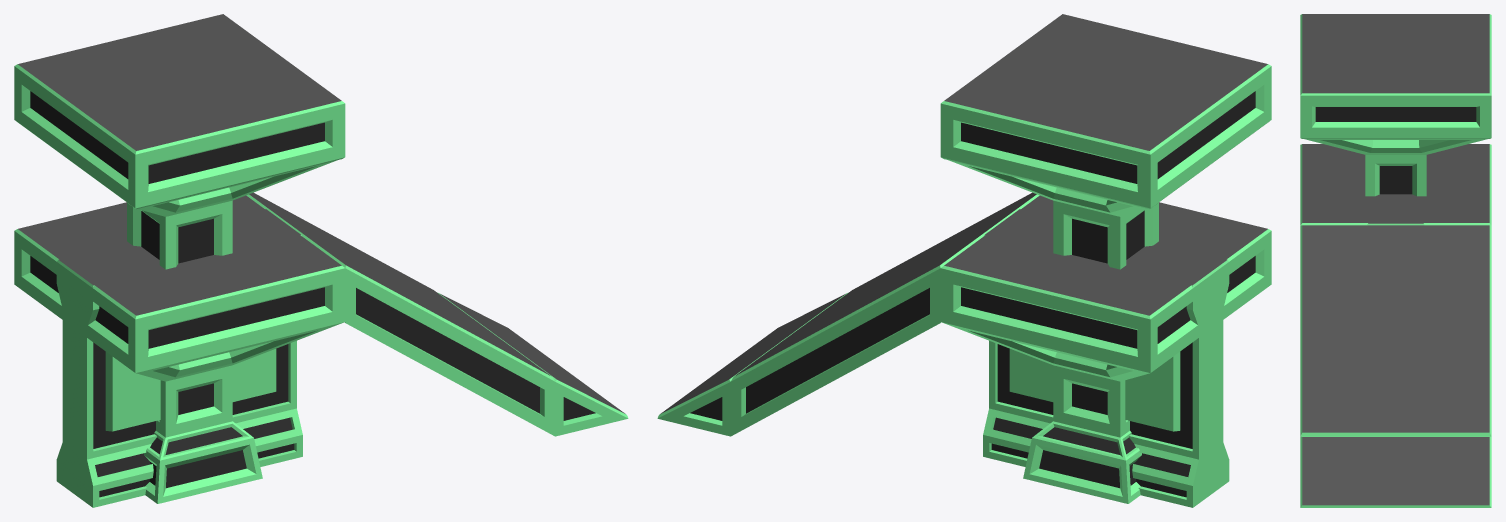
File: elements.fbx
The picture shows the model from 3 angles, left to right: view 1: azimuth 30°, elevation 25°; view 2: azimuth 150°, elevation 25°; view 3: azimuth 270°, elevation 25°; orthographic projection. The views are drawn at different scales.
Visible parts, largest first — view 1: Empty_Mesh, Empty_Mesh_2, Empty_Mesh_1, Empty_Mesh_5, Empty_Mesh_3, Empty_Mesh_4; view 2: Empty_Mesh, Empty_Mesh_2, Empty_Mesh_1, Empty_Mesh_5, Empty_Mesh_3, Empty_Mesh_4; view 3: Empty_Mesh_3, Empty_Mesh_1, Empty_Mesh_4, Empty_Mesh_2, Empty_Mesh, Empty_Mesh_5.
Boxes of the visible parts, x1,y1,x2,y2 form: Empty_Mesh: [14, 66, 345, 503]; Empty_Mesh_2: [14, 195, 345, 435]; Empty_Mesh_1: [14, 14, 345, 209]; Empty_Mesh_5: [56, 209, 302, 507]; Empty_Mesh_3: [246, 192, 555, 436]; Empty_Mesh_4: [438, 293, 628, 436]; Empty_Mesh: [940, 66, 1271, 503]; Empty_Mesh_2: [940, 195, 1271, 436]; Empty_Mesh_1: [940, 14, 1271, 209]; Empty_Mesh_5: [983, 209, 1229, 507]; Empty_Mesh_3: [730, 192, 1039, 436]; Empty_Mesh_4: [657, 293, 847, 436]; Empty_Mesh_3: [1300, 225, 1491, 436]; Empty_Mesh_1: [1300, 14, 1491, 138]; Empty_Mesh_4: [1300, 436, 1491, 507]; Empty_Mesh_2: [1300, 144, 1491, 225]; Empty_Mesh: [1304, 106, 1487, 196]; Empty_Mesh_5: [1367, 194, 1424, 225].
Bounding box in the file's own units: 470 × 352 × 200.
